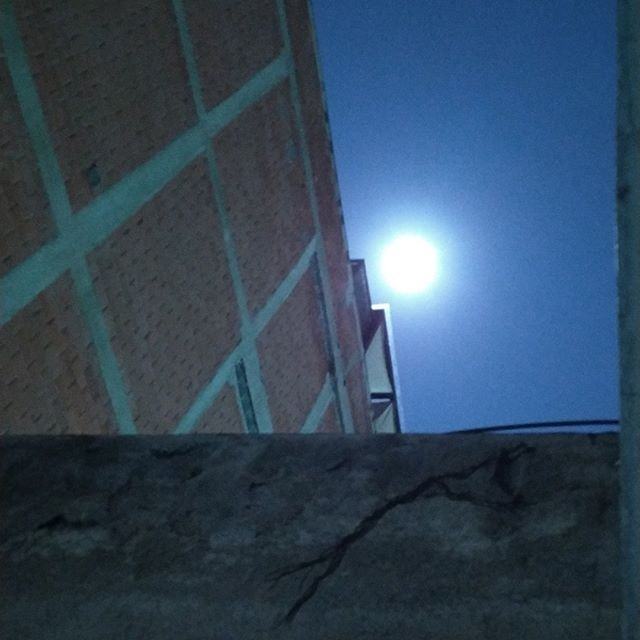building: (1, 1, 403, 433)
sun: (369, 239, 444, 304)
